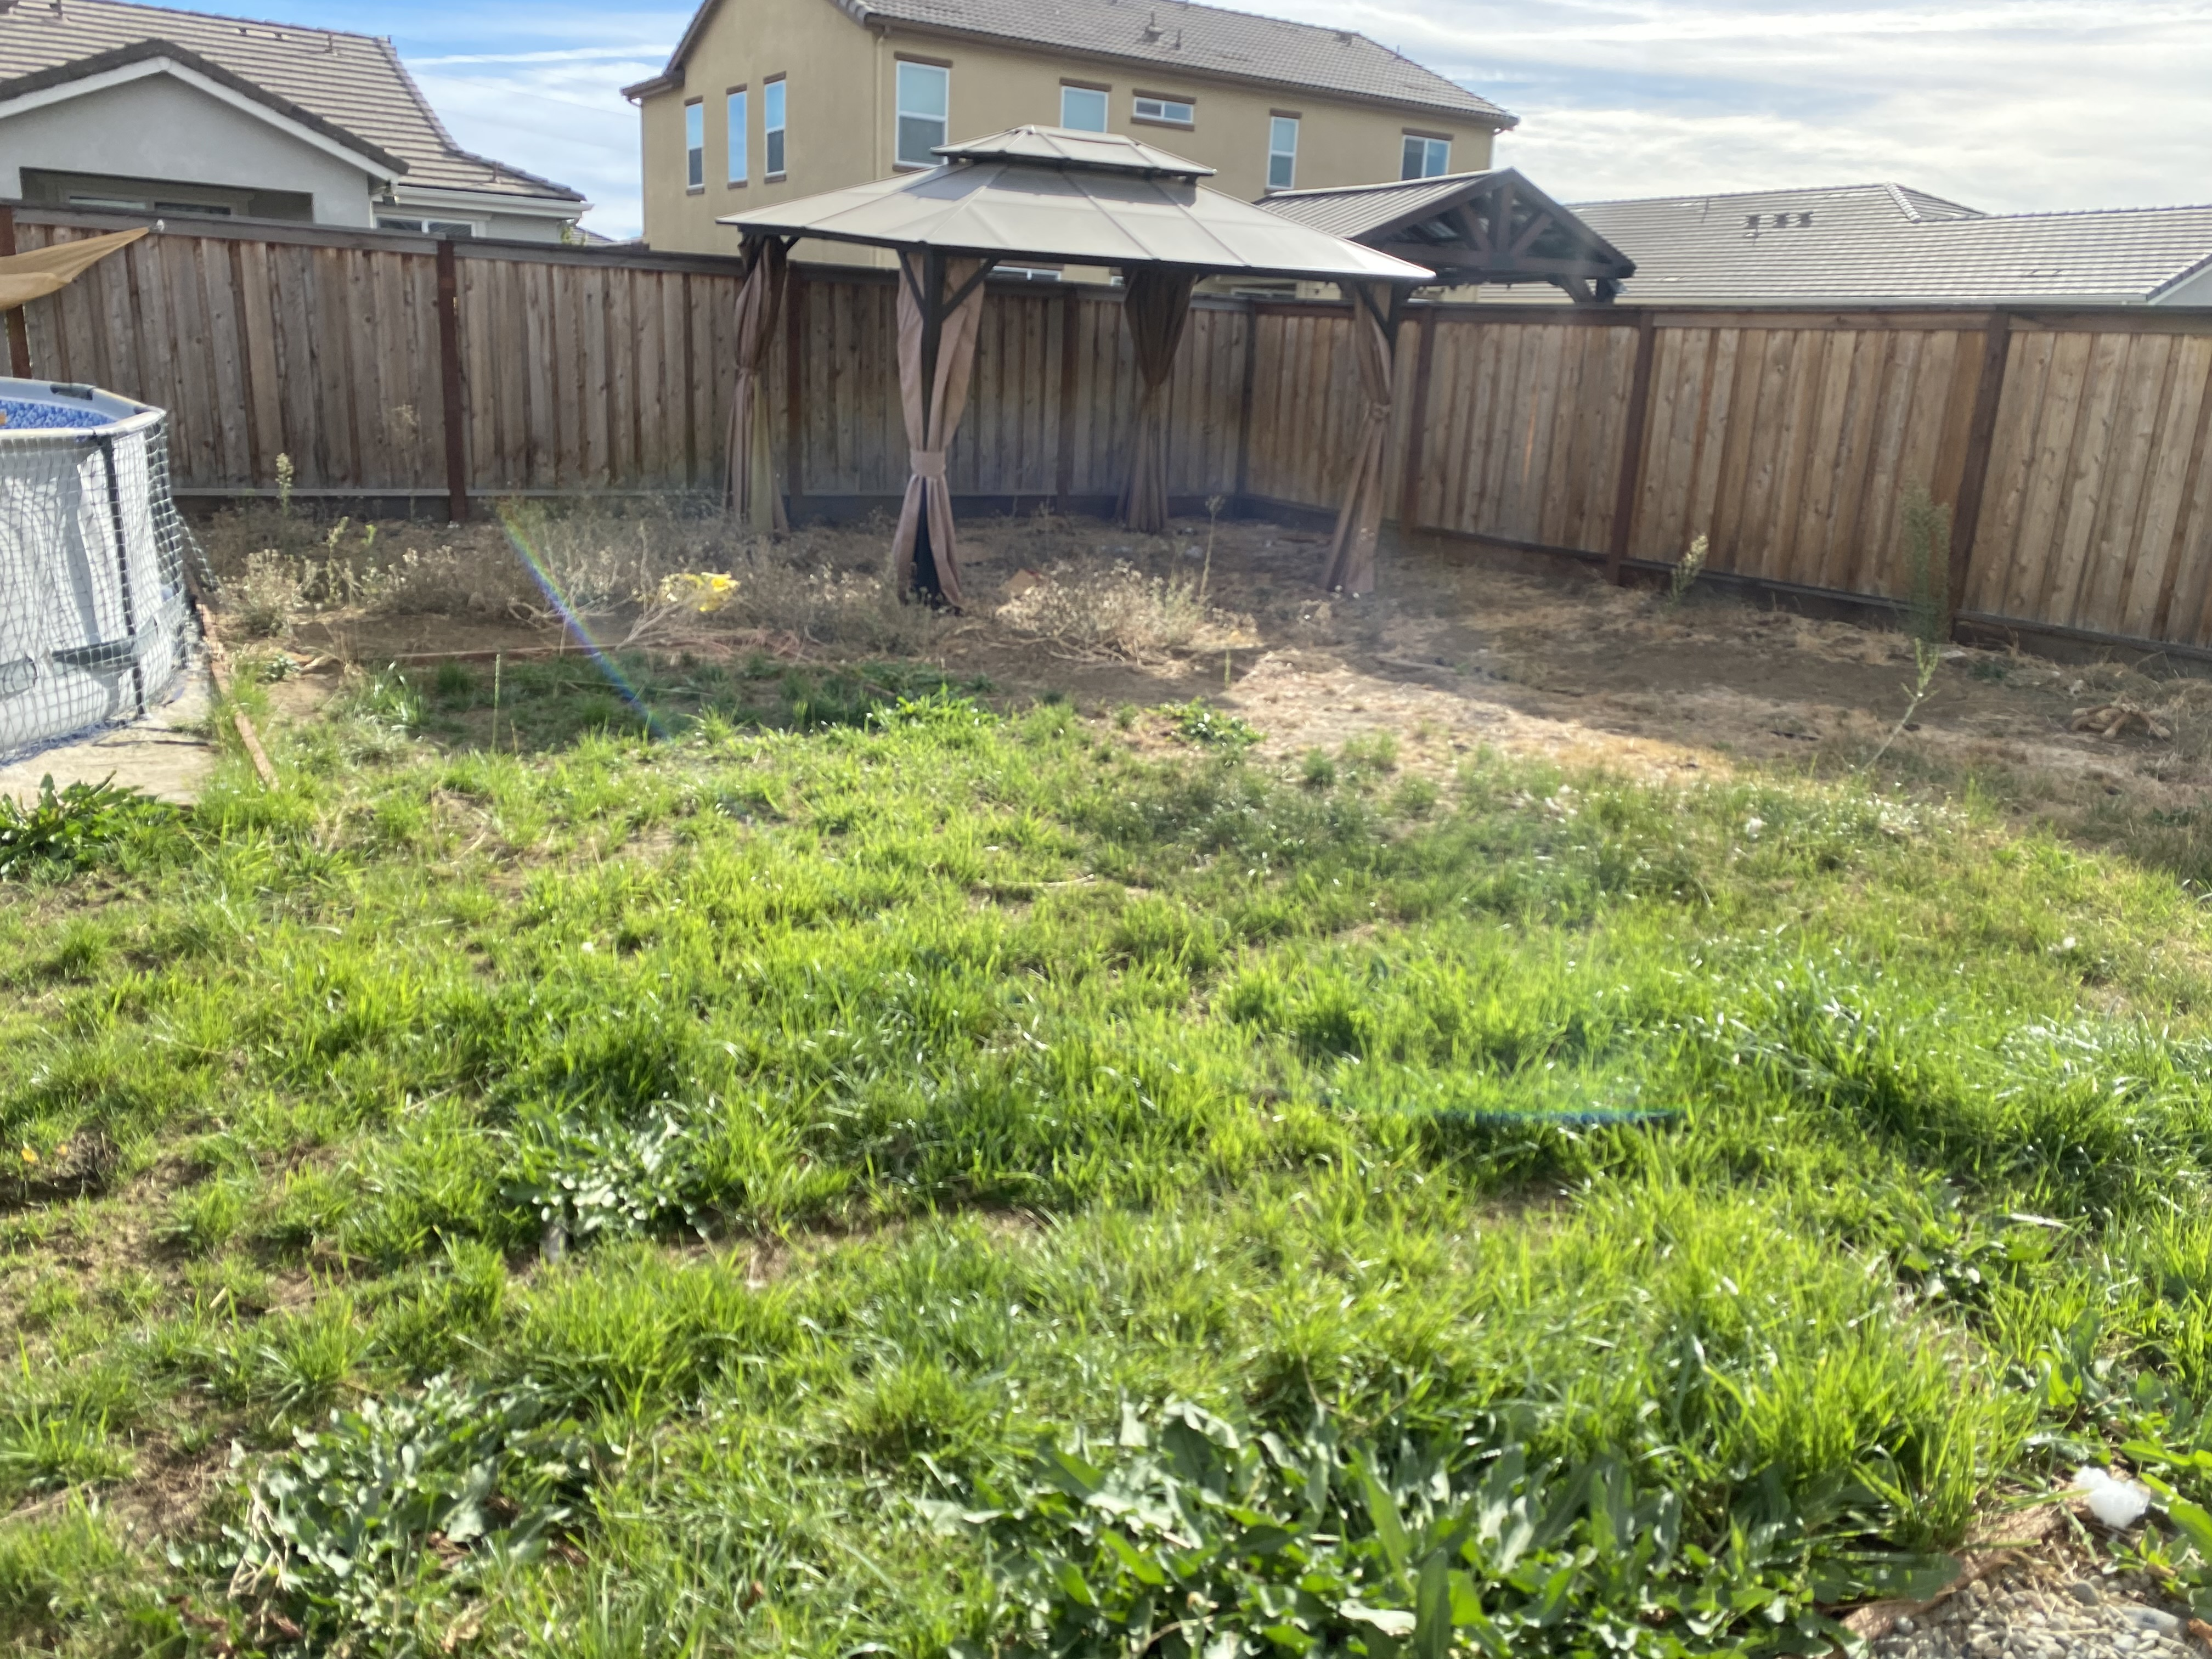weed: (948, 1359, 1905, 1659), (266, 1384, 578, 1636), (3, 788, 174, 871)
